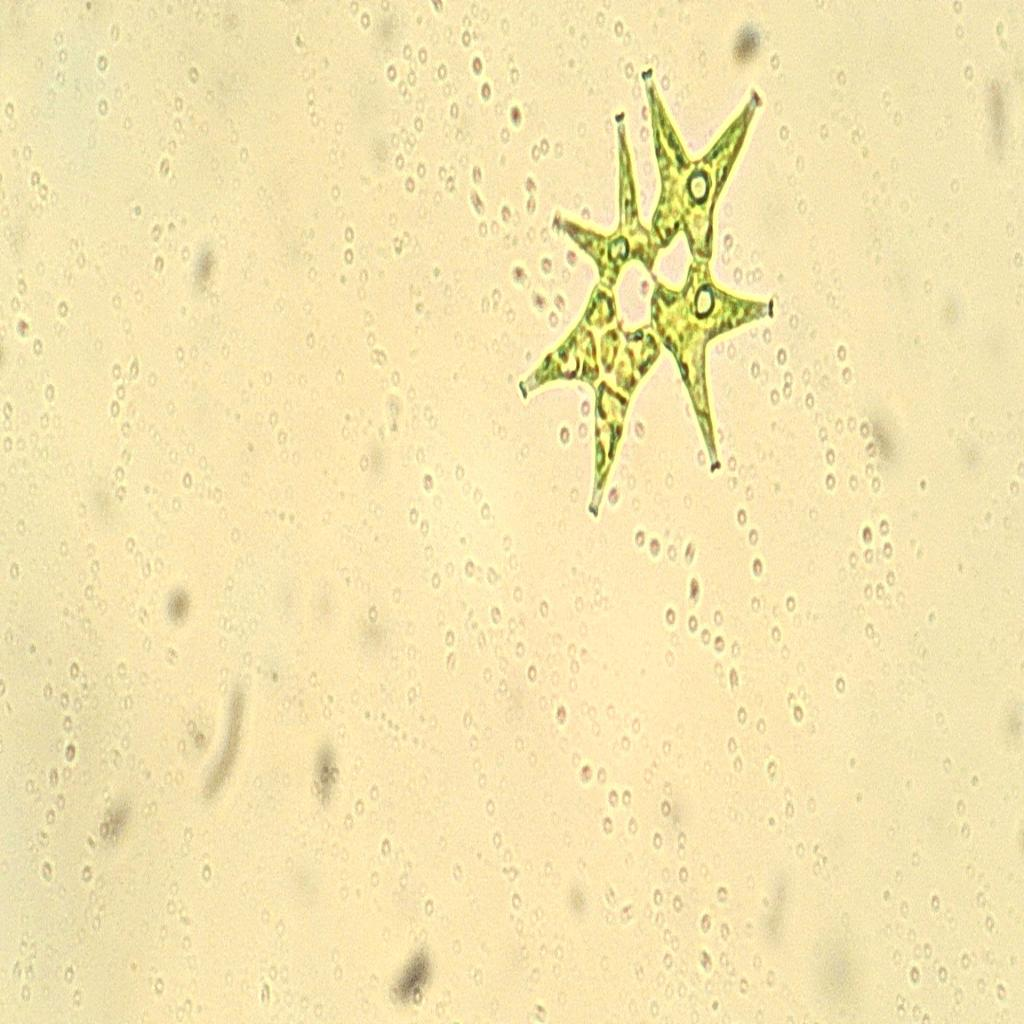Pediastrum_75FO: (506, 36, 796, 543)
